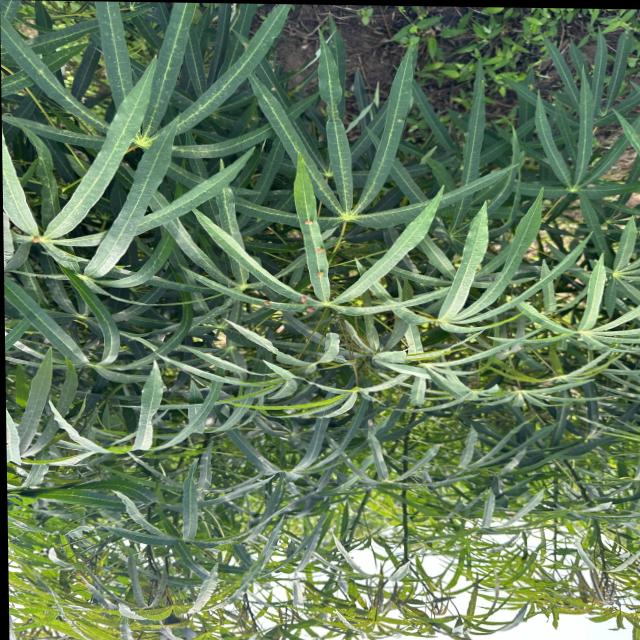Mosca: (296, 287, 317, 322), (254, 290, 279, 311), (262, 78, 284, 100), (448, 158, 476, 174), (310, 240, 332, 260), (304, 215, 320, 229), (315, 270, 329, 283)
